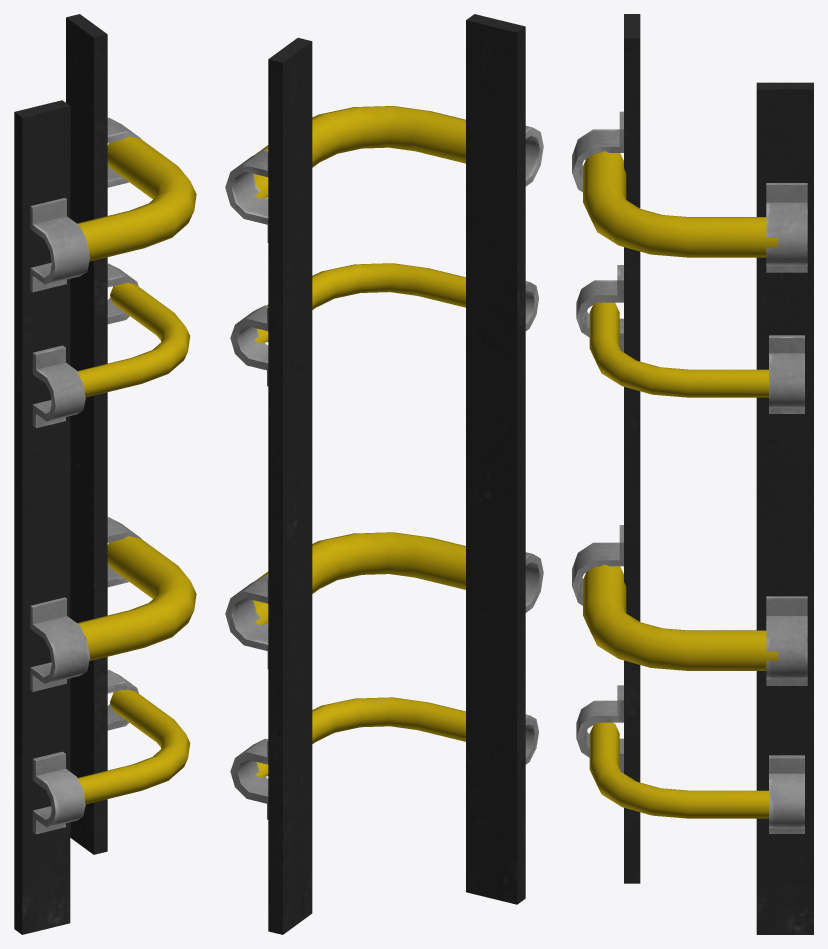
Rendered from ElectricalWires02_Curve02.glb.
3 views of the same model, side by side, from view 1: azimuth 30°, elevation 25°; view 2: azimuth 150°, elevation 25°; view 3: azimuth 270°, elevation 25° (orthographic). The views are drawn at different scales.
Parts seen in each view (by area): view 1: Plane_001_2; view 2: Plane_001_2; view 3: Plane_001_2.
Part boxes in pixels (left/top/right/bottom): Plane_001_2: left=14, top=14, right=196, bottom=934; Plane_001_2: left=225, top=14, right=543, bottom=934; Plane_001_2: left=572, top=14, right=813, bottom=934.
Bounding box in the file's own units: 0.5629 × 2.28 × 0.5911.
Materials: 1 (1 with a texture image).
